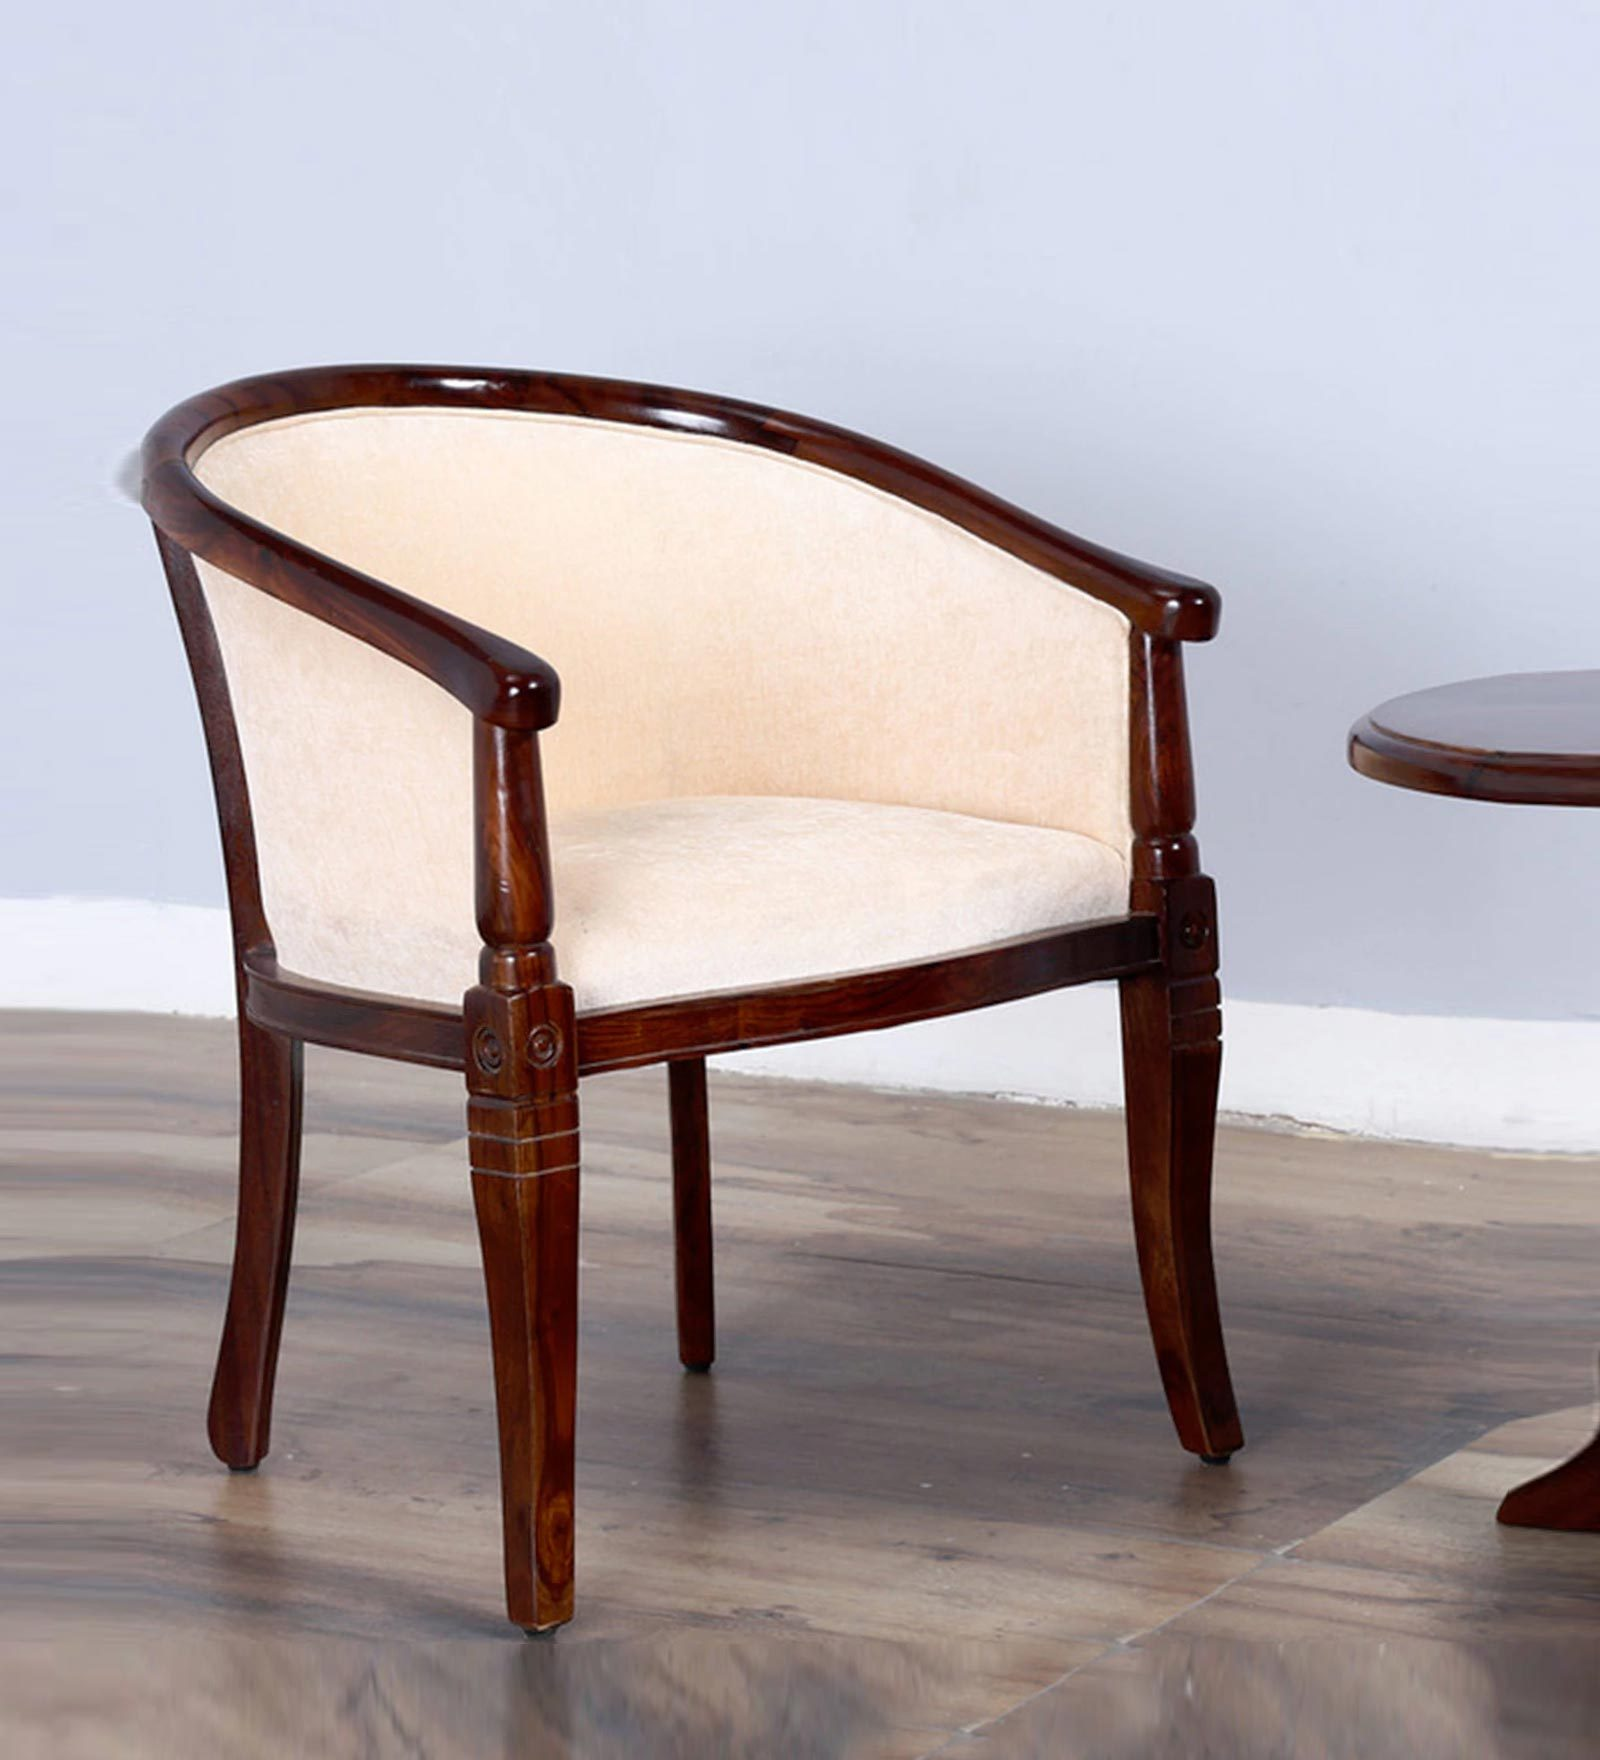Stalley Arm Chair in Cream Color with Honey Oak Finish by Amberville: (61, 254, 1316, 1670)
